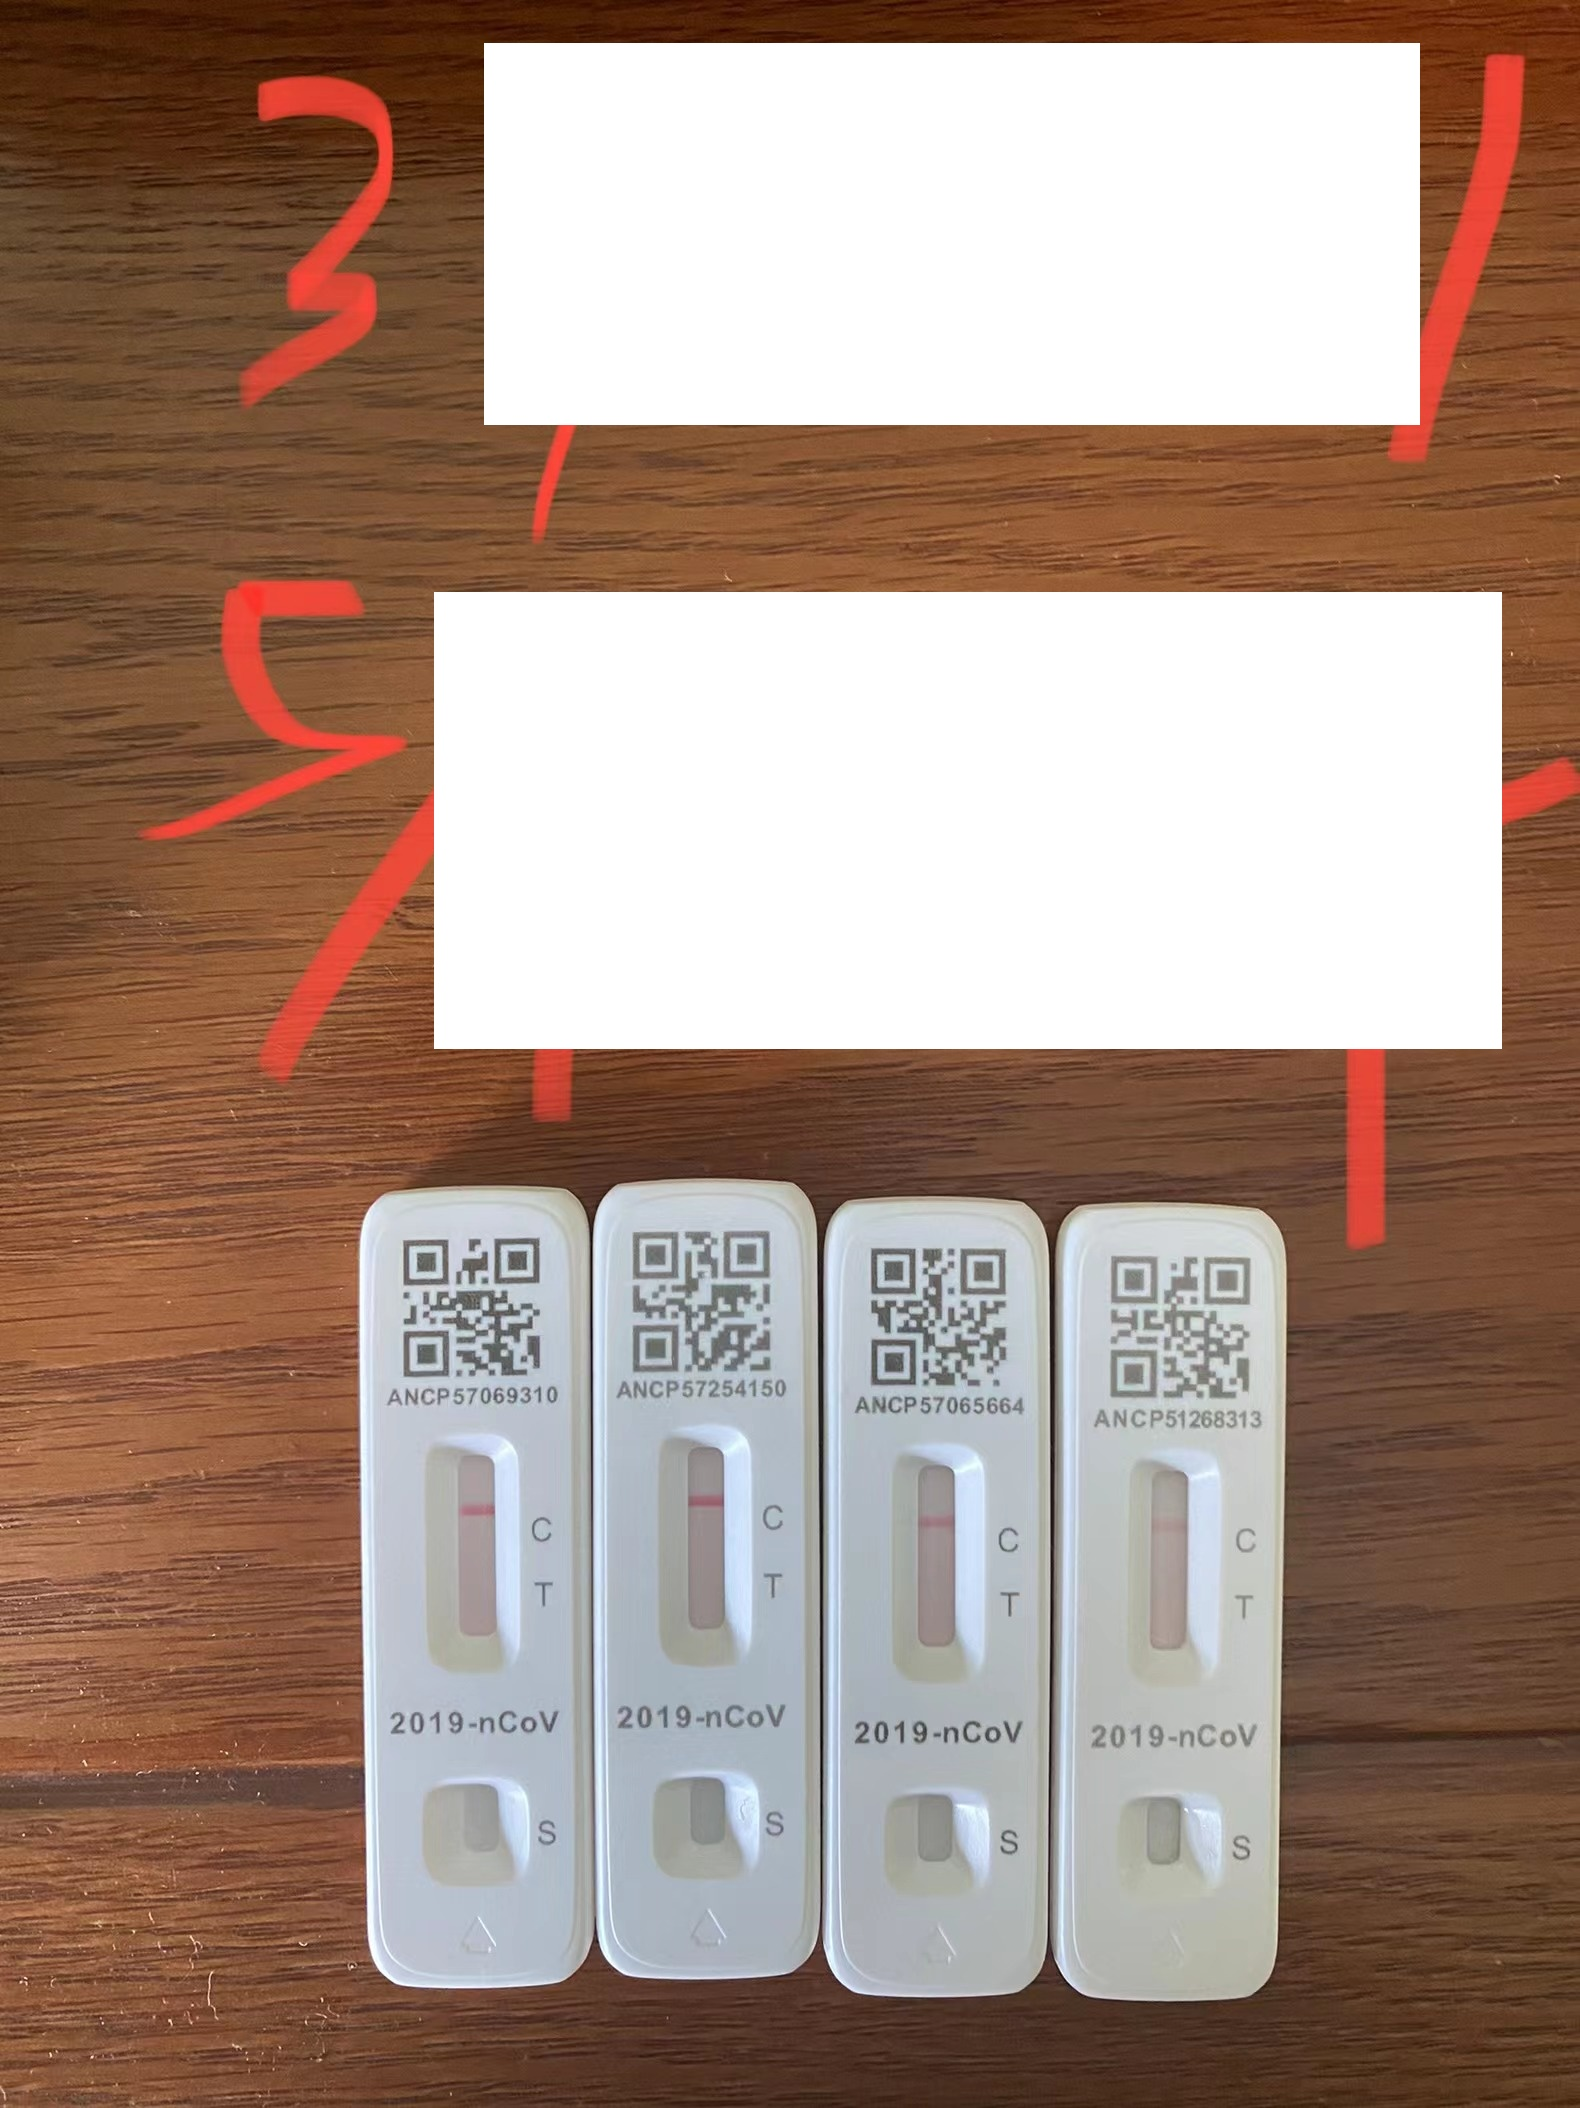negative: (654, 1422, 750, 1671), (422, 1431, 519, 1673), (1124, 1444, 1220, 1671), (891, 1442, 981, 1675)
